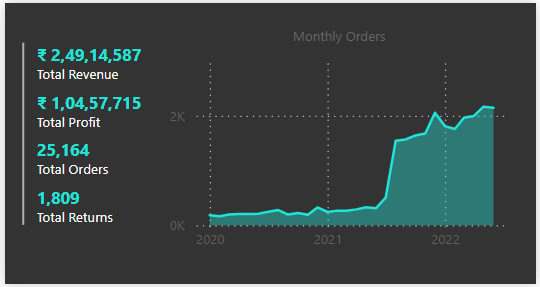

Layout of this report page (visuals, bound fields, positions):
{"tool":"powerbi","page":{"name":"Category Tool Tip","canvas":[425,225],"ordinal":4},"visuals":[{"type":"multiRowCard","fields":{"Values":["Measure Table.Total Revenue","Measure Table.Total Profit","Measure Table.Total Orders","Measure Table.Total Returns"]},"box":[9,27,134,187],"z":0},{"type":"areaChart","title":"Monthly Orders","fields":{"Y":["Measure Table.Total Orders"],"Category":["Calendar Lookup.Start of Month"]},"box":[127,19,281,187],"z":1000}]}

Visuals, with their boxes in screenshot pixels (x1, y1, x2, y2), scaled from the page's 425x225 canvas onto the 540x287 screenshot:
multiRowCard - Measure Table.Total Revenue x Measure Table.Total Profit: l=11, t=34, r=182, b=273
"Monthly Orders" areaChart: l=161, t=24, r=518, b=263
